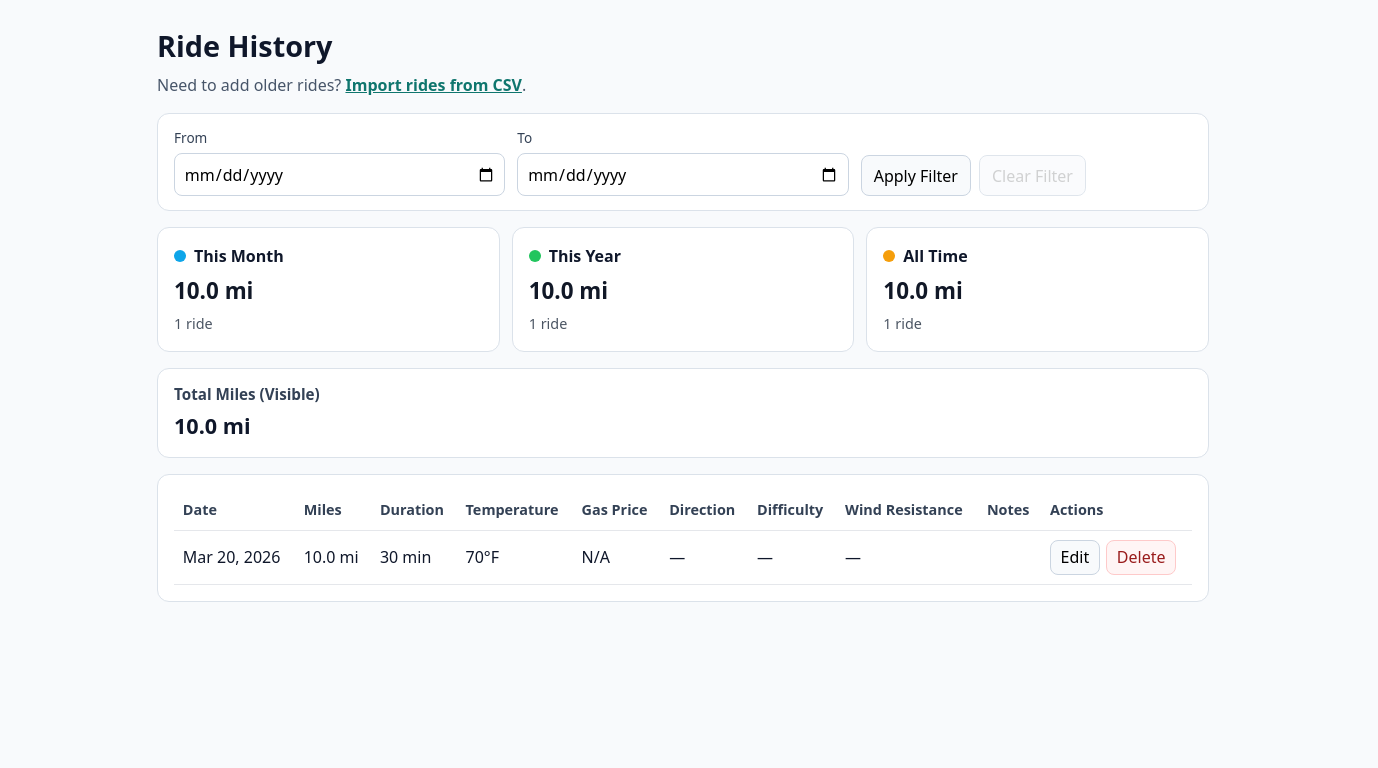
Test: HistoryPage › should load weather into edit fields when Load Weather is clicked
Click the button "Edit" at (1075, 557), box [1050,540,1100,575]
(page scrolled)
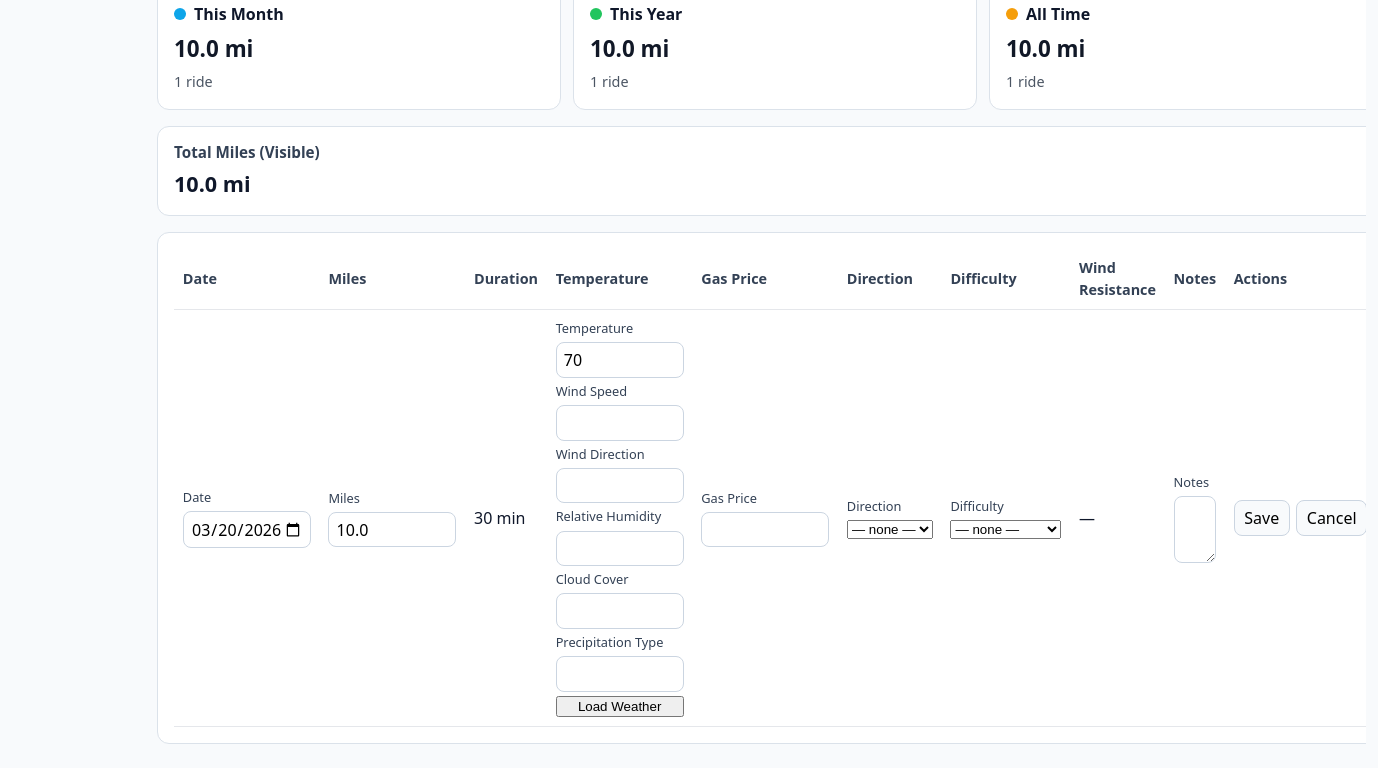
Click the button "Load Weather" at (620, 706), box [556,696,684,717]
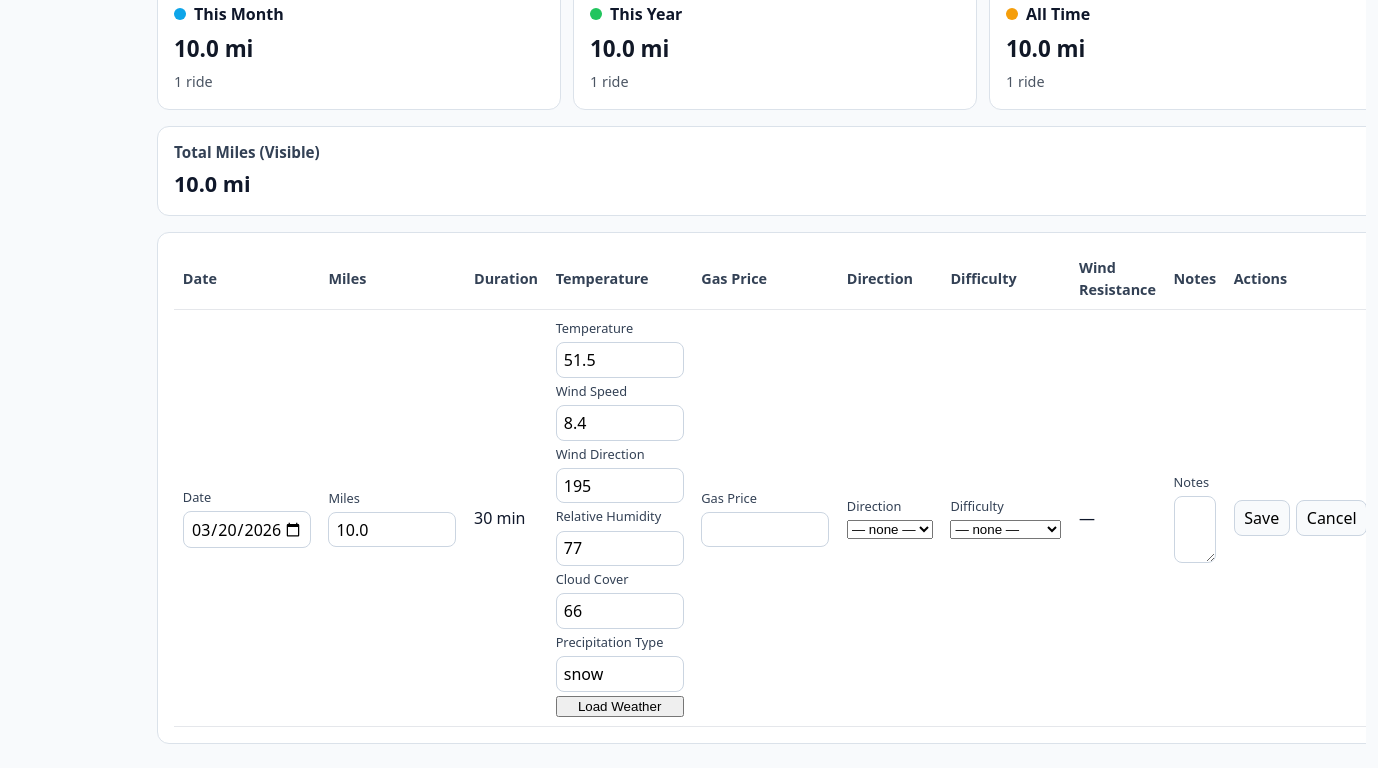
Now the number field labelled "Temperature" holds "51.5", box [556,342,684,378]
Now the number field labelled "Wind Speed" holds "8.4", box [556,405,684,441]
Now the number field labelled "Wind Direction" holds "195", box [556,468,684,504]
